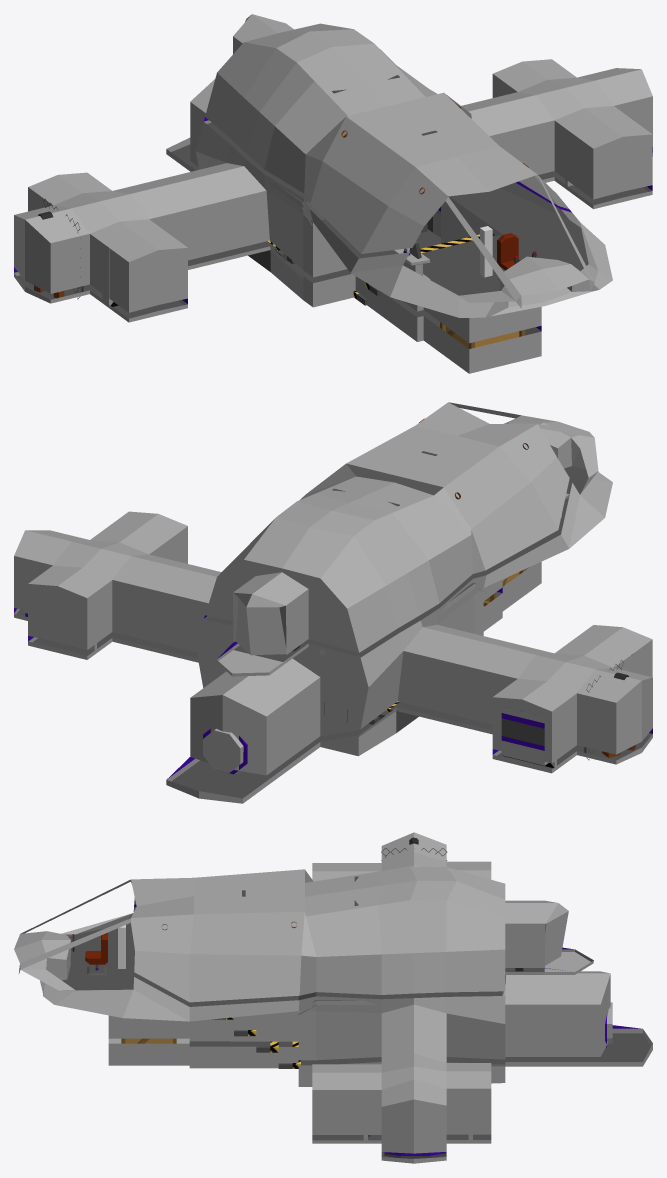
File: InteriorShip.fbx
The picture shows the model from 3 angles, top to bottom: view 1: azimuth 30°, elevation 25°; view 2: azimuth 150°, elevation 25°; view 3: azimuth 270°, elevation 25°; orthographic projection. The views are drawn at different scales.
Visible parts, largest first — view 1: Interior_Ship, PilotSeat, PrincipalStairs, Diagnostic, Crate; view 2: Interior_Ship, Presion, Motor; view 3: Interior_Ship, PrincipalStairs, PilotSeat.
Boxes of the visible parts, box(x1,y1,x2,y2) form: Interior_Ship: box(14, 14, 652, 373); PilotSeat: box(497, 233, 520, 281); PrincipalStairs: box(353, 234, 495, 305); Diagnostic: box(393, 240, 430, 279); Crate: box(440, 322, 525, 348); Interior_Ship: box(14, 402, 652, 803); Presion: box(501, 706, 558, 768); Motor: box(203, 728, 247, 774); Interior_Ship: box(14, 832, 652, 1163); PrincipalStairs: box(212, 1017, 300, 1068); PilotSeat: box(85, 932, 107, 975).
Size of the model in its own units: 173 by 55.36 by 175.
23 materials, 8 textured.
